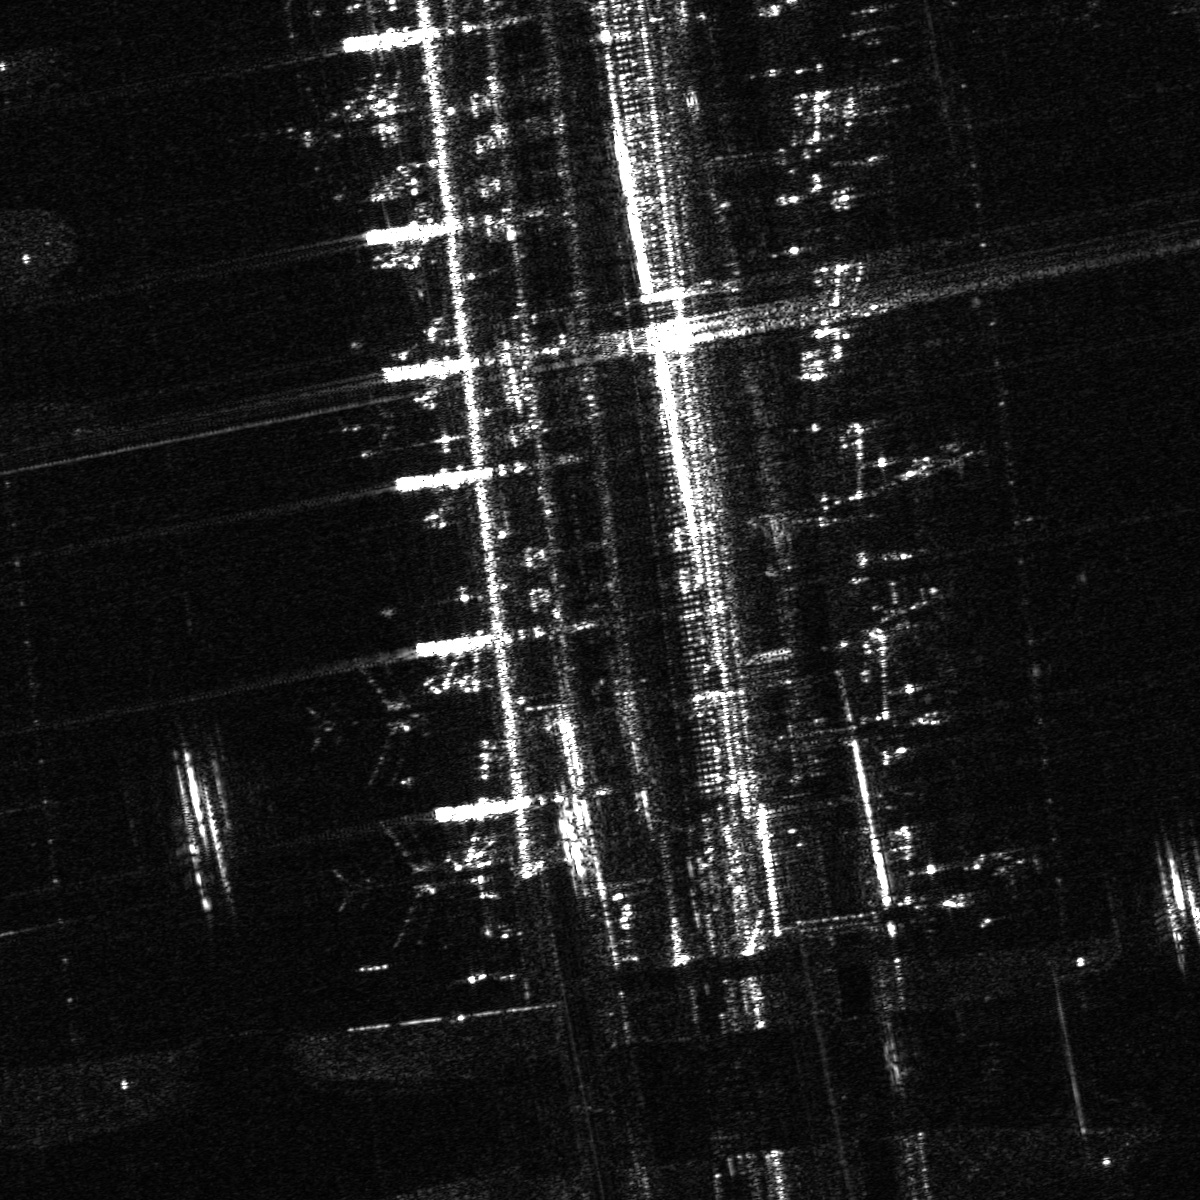A220: (332, 385, 419, 463)
A330: (338, 821, 457, 952)
Boeing787: (307, 664, 427, 790)
other: (227, 62, 355, 195)
